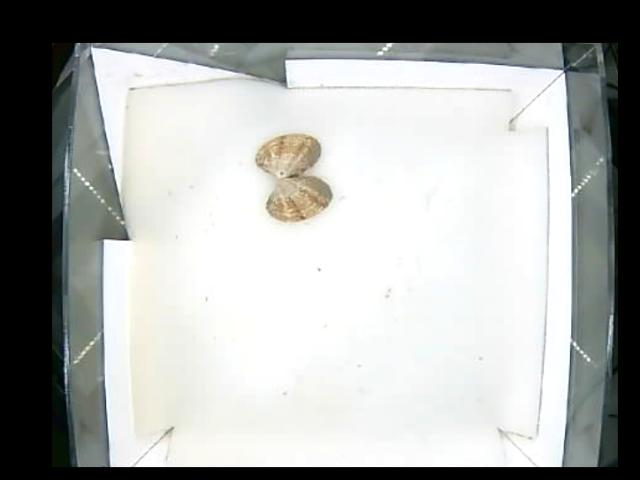Shell: (257, 133, 332, 222)
